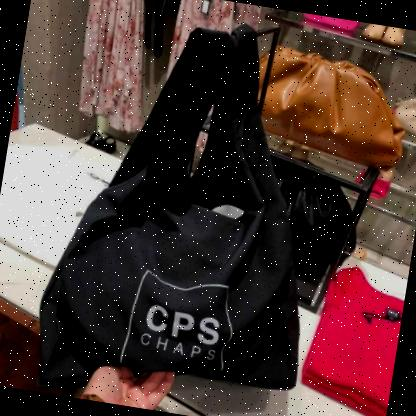bag: (23, 0, 356, 415)
